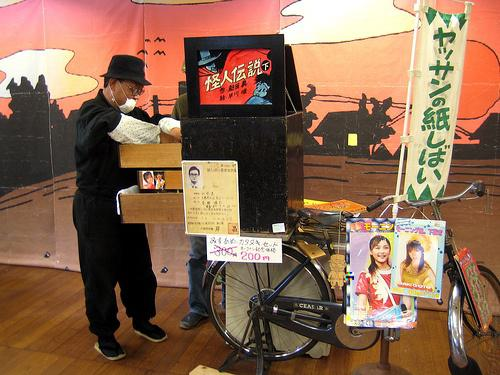car: (200, 178, 500, 375)
person: (68, 52, 171, 365), (354, 237, 413, 313), (401, 241, 439, 289), (188, 167, 203, 190)
